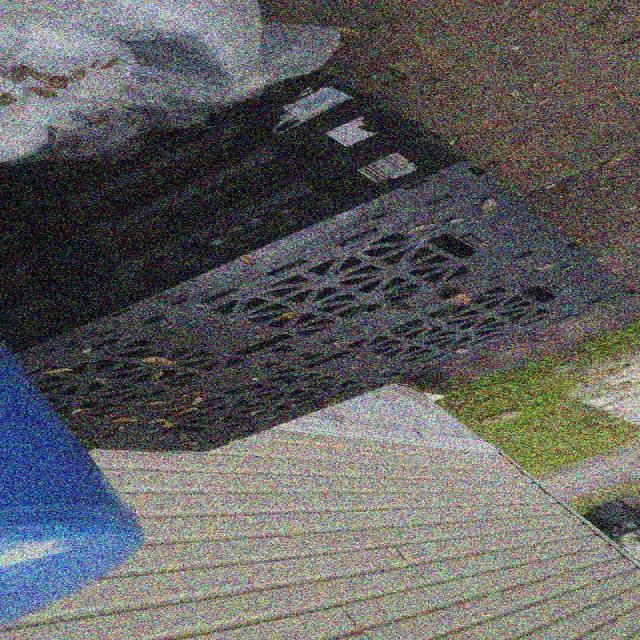igps: (0, 142, 640, 461), (0, 105, 444, 304), (2, 83, 370, 262)
